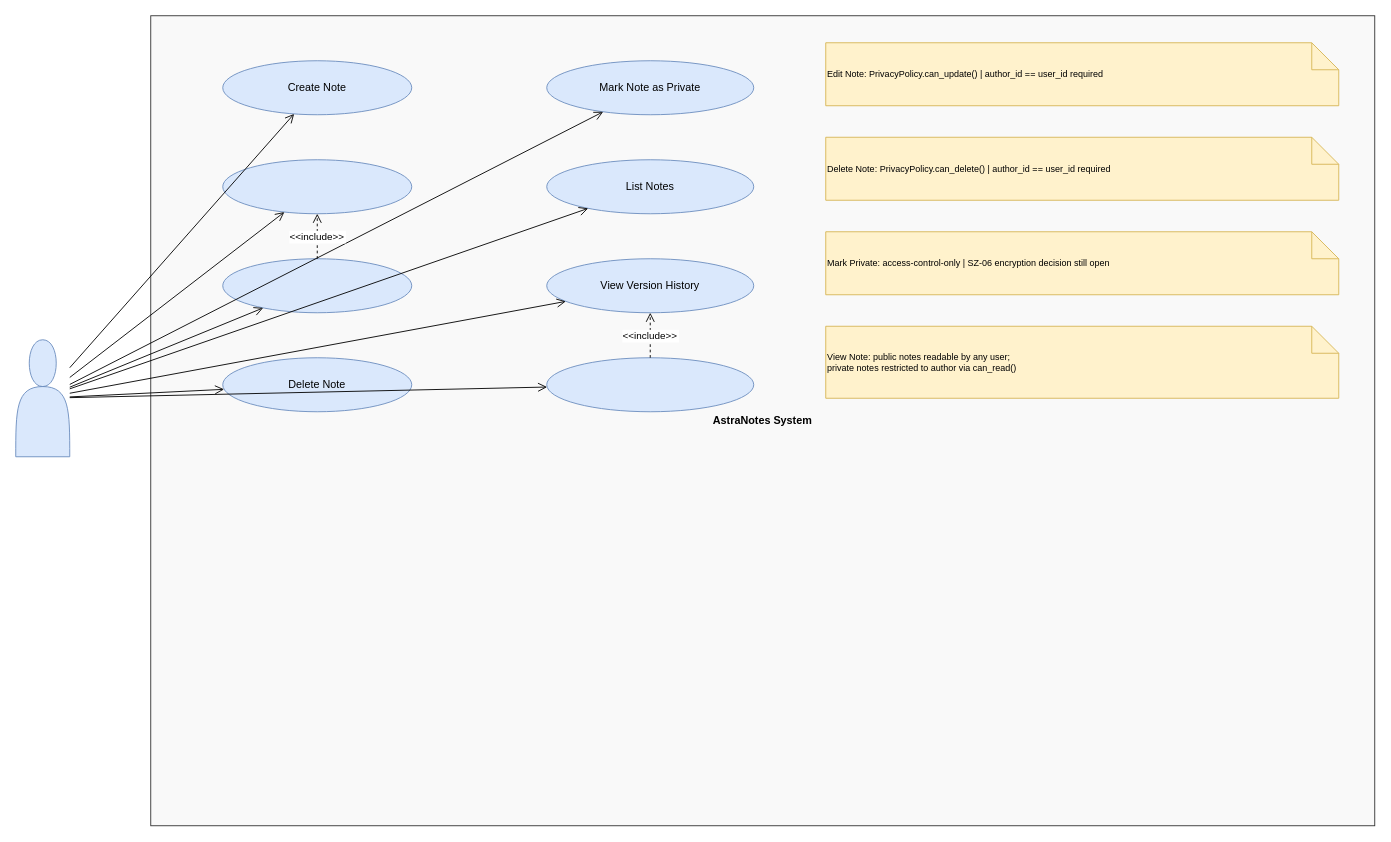
Image size: 1391x842. Some labels were removed from this diagram. The centre of each missing label's shape, as x and y in pixels:
Edit Note: the point at 317,285
Revert Note to Previous Version: the point at 650,384
User: the point at 42,398
View Note: the point at 317,186
